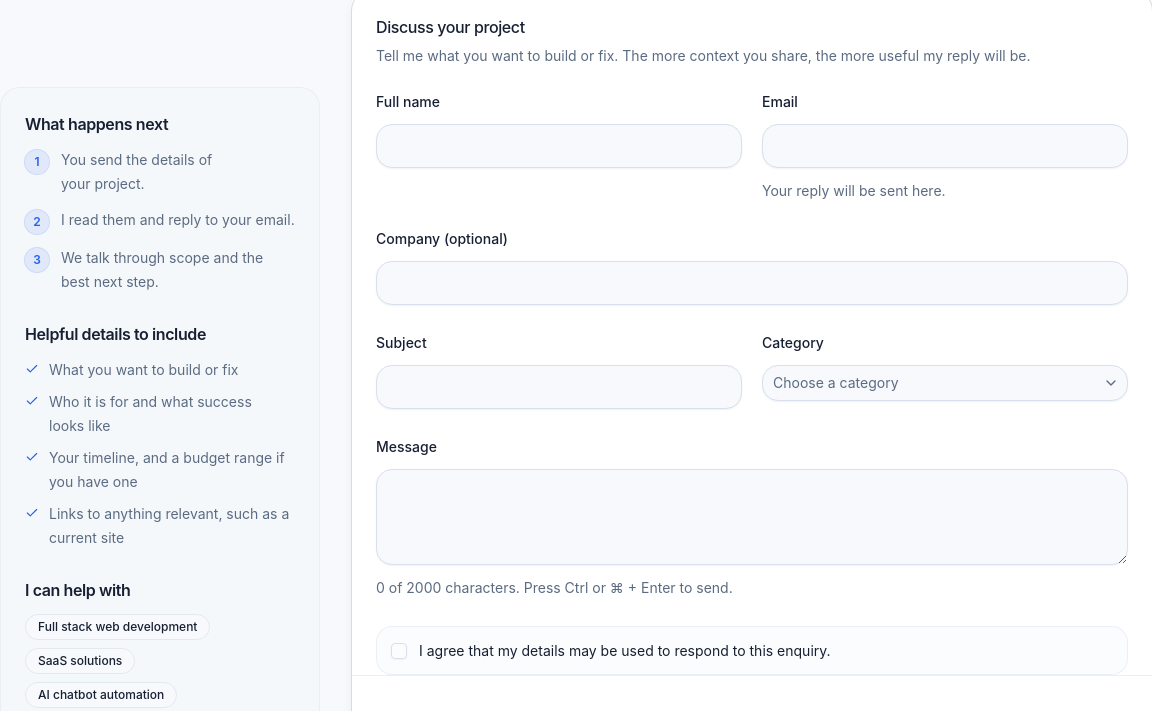
it: ContactForm › marks invalid fields for assistive technology
Type "not-an-email" into the field labelled "Email" at (945, 146), box [762, 124, 1128, 168]
(page scrolled)
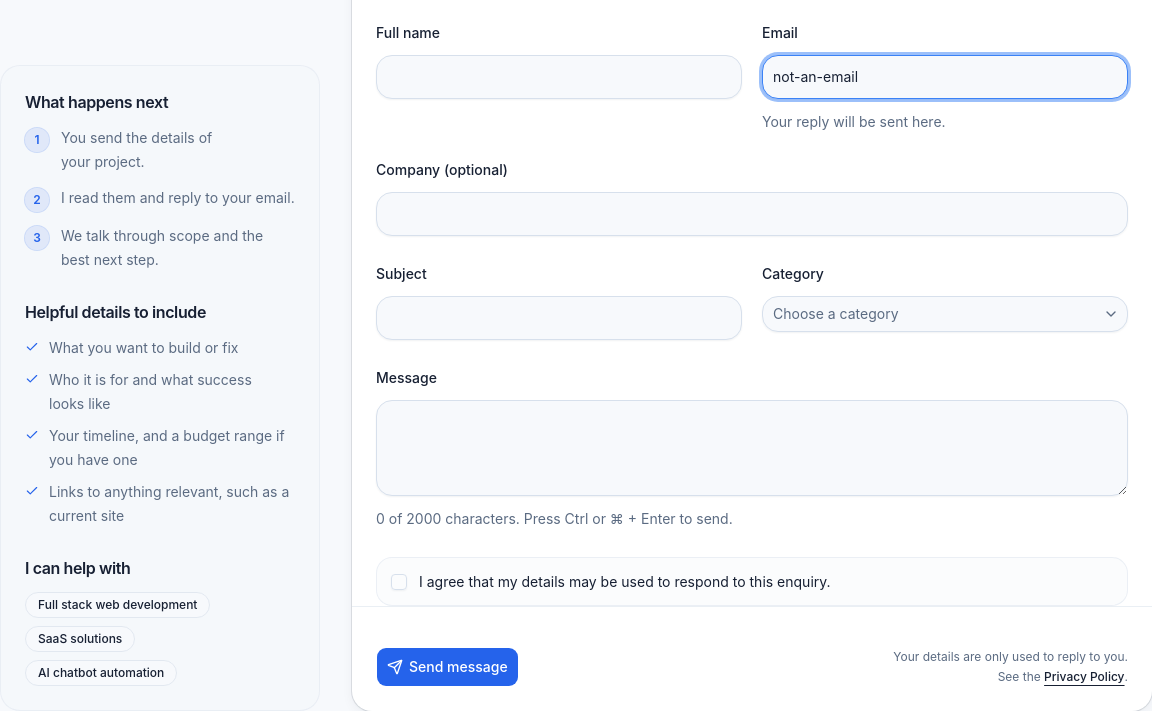
Click the button "Send message" at (447, 667), box [376, 647, 519, 687]
(page scrolled)
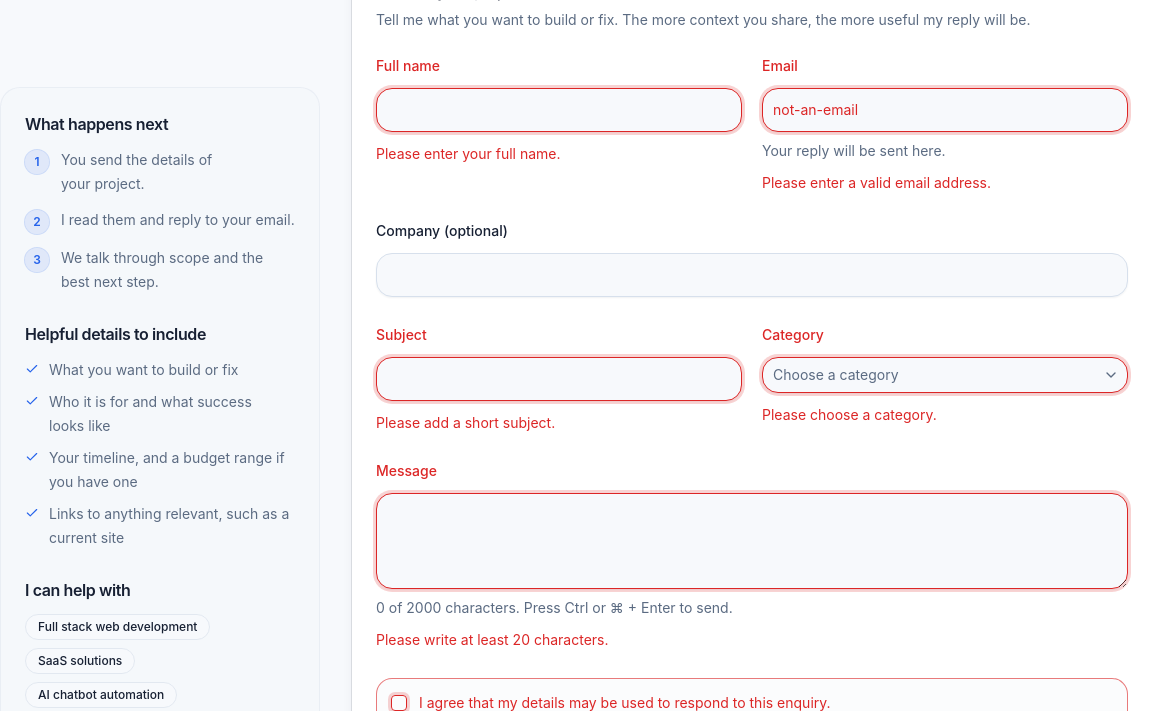
Now the text "Please enter a valid email address." is shown, box [762, 174, 991, 191]
